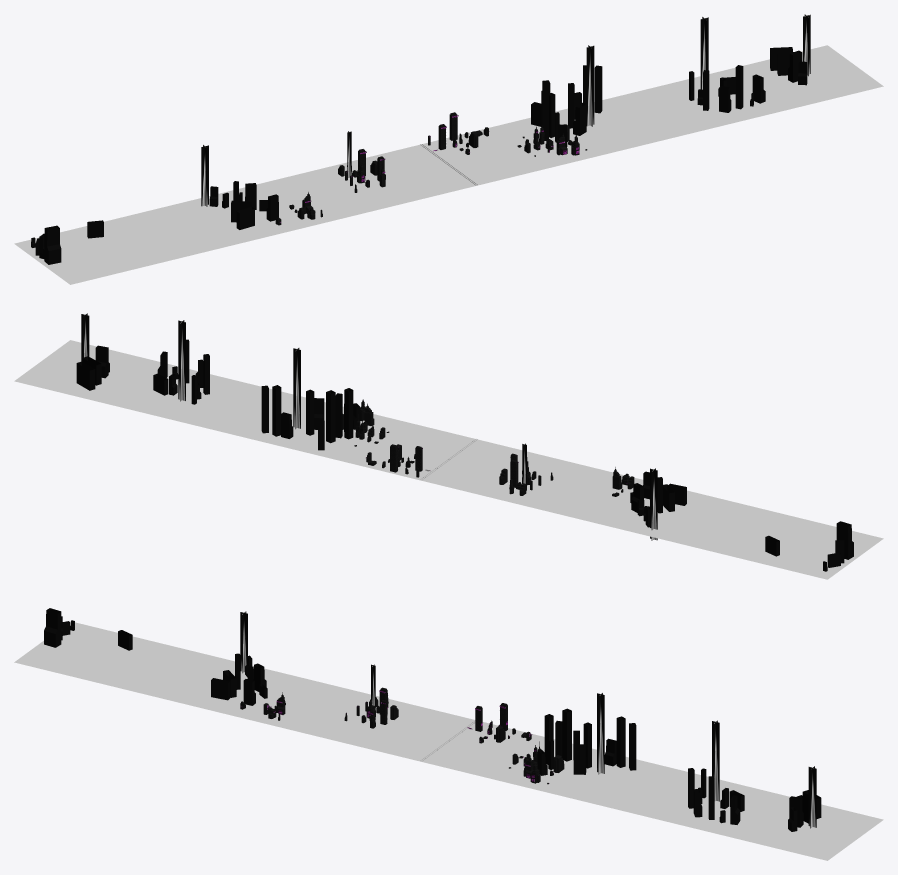
File: cit4.FBX
3 renders of one model, top to bottom at view 1: azimuth 30°, elevation 25°; view 2: azimuth 150°, elevation 25°; view 3: azimuth 330°, elevation 25°, orthographic.
Visible parts, largest first — view 1: Plane024, building_large010; view 2: Plane024, building_large010; view 3: Plane024, building_large010.
Boxes of the visible parts, x1,y1,x2,y2 form: Plane024: [14, 45, 883, 284]; building_large010: [31, 14, 810, 264]; Plane024: [14, 340, 883, 579]; building_large010: [76, 313, 853, 571]; Plane024: [14, 621, 883, 860]; building_large010: [44, 608, 821, 831].
Size of the model in its own units: 20000 by 2400 by 2103.
